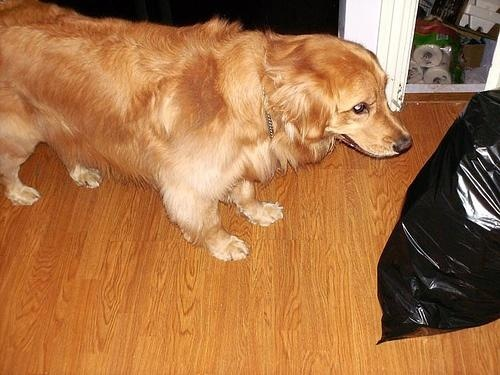dog: (2, 2, 415, 262)
